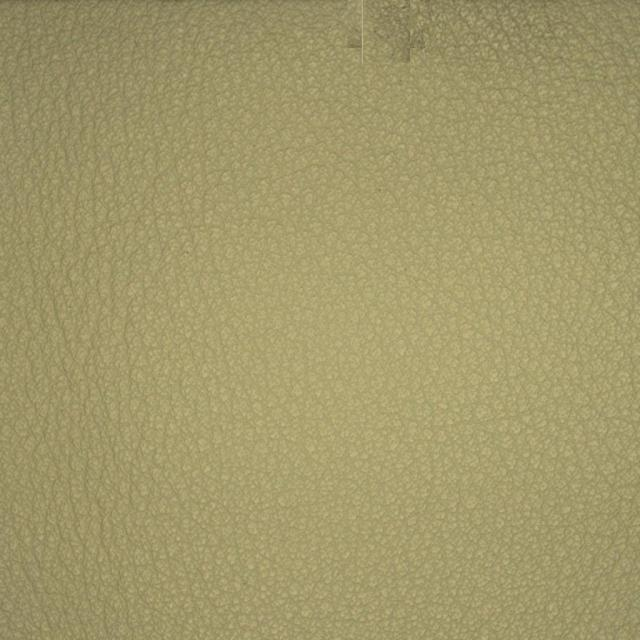Healed Injury: (325, 8, 469, 154)
